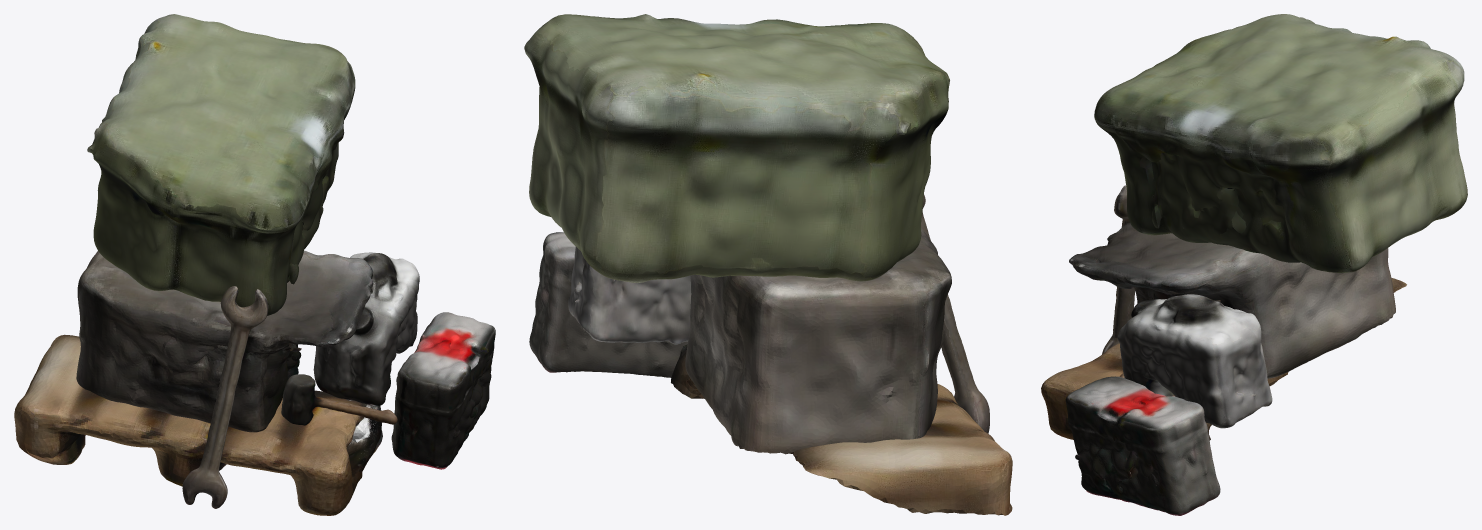
The model's file is gen3dsr_no_bg.glb.
The picture shows the model from 3 angles, left to right: view 1: azimuth 30°, elevation 25°; view 2: azimuth 150°, elevation 25°; view 3: azimuth 270°, elevation 25°; orthographic projection. The views are drawn at different scales.
Parts seen in each view (by area): view 1: 0.obj, 1.obj, 4.obj, 2.obj, 3.obj, 6.obj, 5.obj; view 2: 0.obj, 1.obj, 4.obj, 2.obj, 3.obj, 6.obj; view 3: 0.obj, 1.obj, 2.obj, 3.obj, 4.obj, 6.obj.
Part boxes in pixels (x1,y1,x2,y2): 0.obj: [87, 14, 355, 315]; 1.obj: [76, 250, 373, 432]; 4.obj: [14, 334, 382, 515]; 2.obj: [391, 312, 495, 469]; 3.obj: [313, 252, 419, 406]; 6.obj: [182, 286, 268, 508]; 5.obj: [281, 374, 397, 425]; 0.obj: [524, 14, 949, 282]; 1.obj: [685, 228, 951, 454]; 4.obj: [671, 344, 1012, 515]; 2.obj: [529, 232, 687, 377]; 3.obj: [568, 246, 691, 344]; 6.obj: [921, 195, 989, 433]; 0.obj: [1094, 14, 1467, 272]; 1.obj: [1069, 222, 1395, 378]; 2.obj: [1065, 376, 1220, 515]; 3.obj: [1117, 294, 1272, 428]; 4.obj: [1041, 278, 1406, 440]; 6.obj: [1102, 185, 1134, 354].
Size of the model in its own units: 1.11 by 0.9394 by 0.9285.
Materials: 7 (7 with a texture image).
